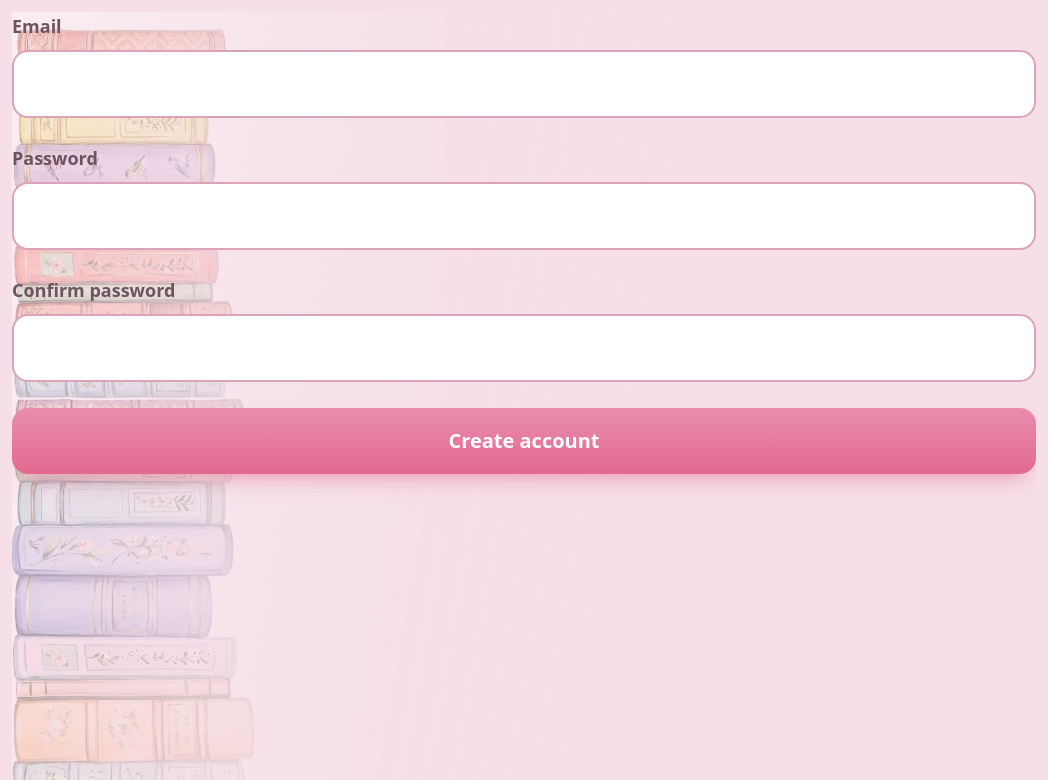
it: RegisterForm › maps a duplicate-email error_code to its translated message
Type "taken@example.com" into the field labelled "Email" at (524, 84), box [12,50,1036,118]
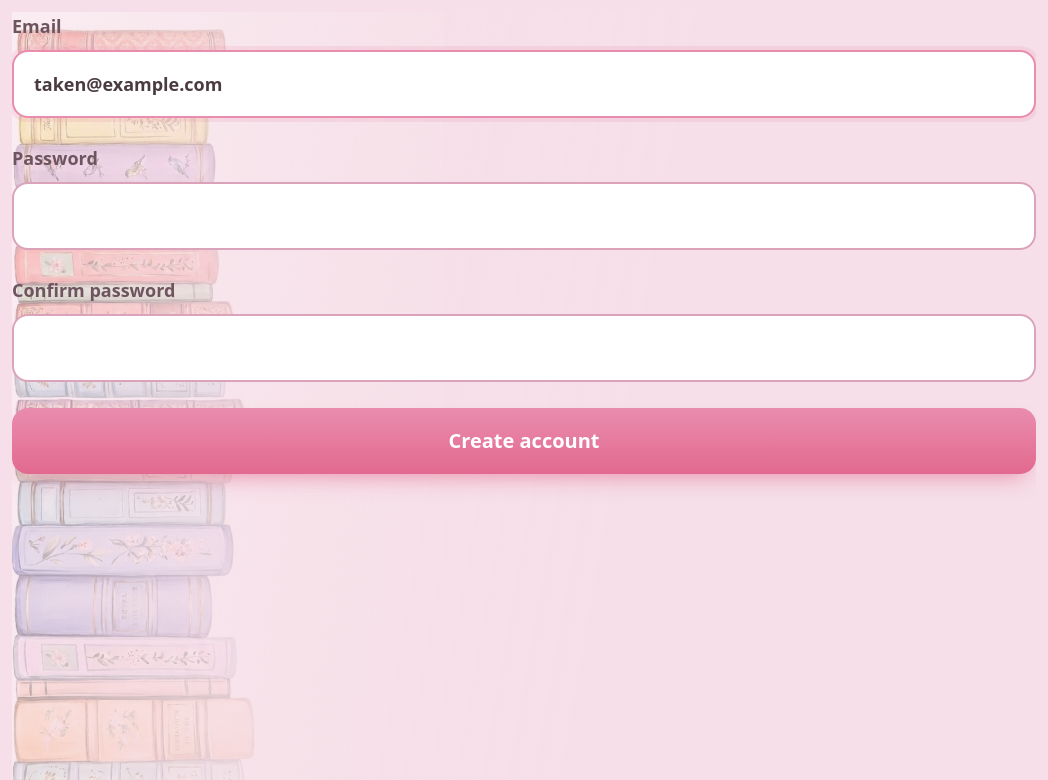
Type "password123" into the password field labelled "Password" at (524, 216), box [12,182,1036,250]
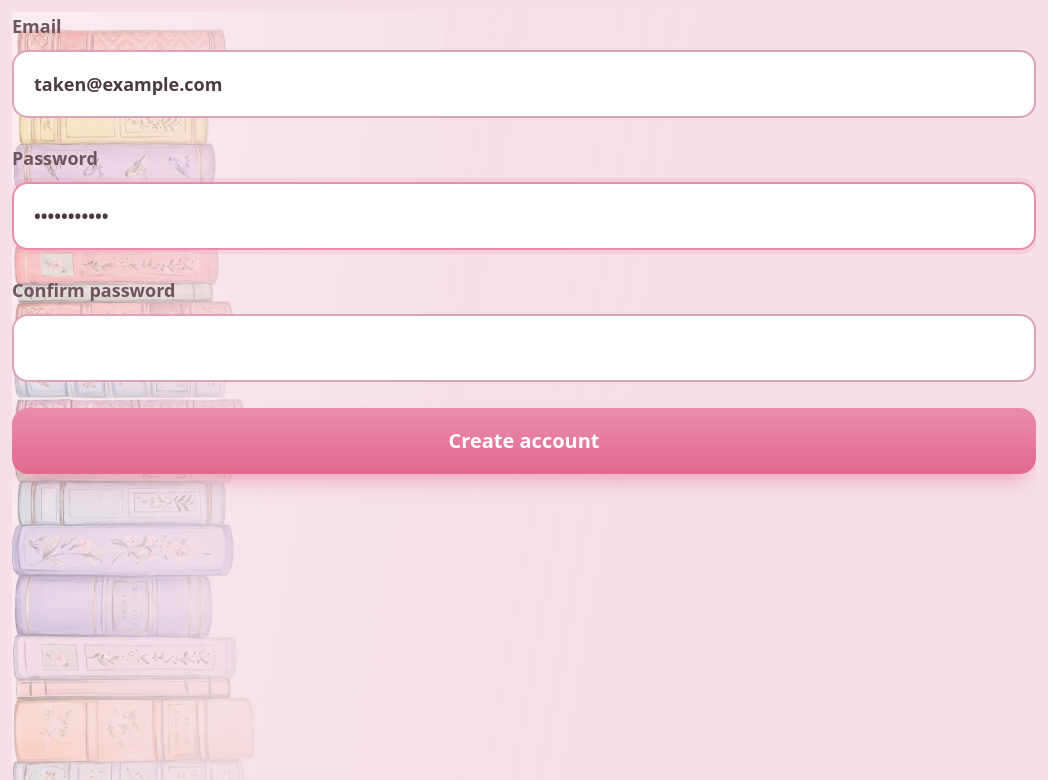
Type "password123" into the password field labelled "Confirm password" at (524, 348), box [12,314,1036,382]
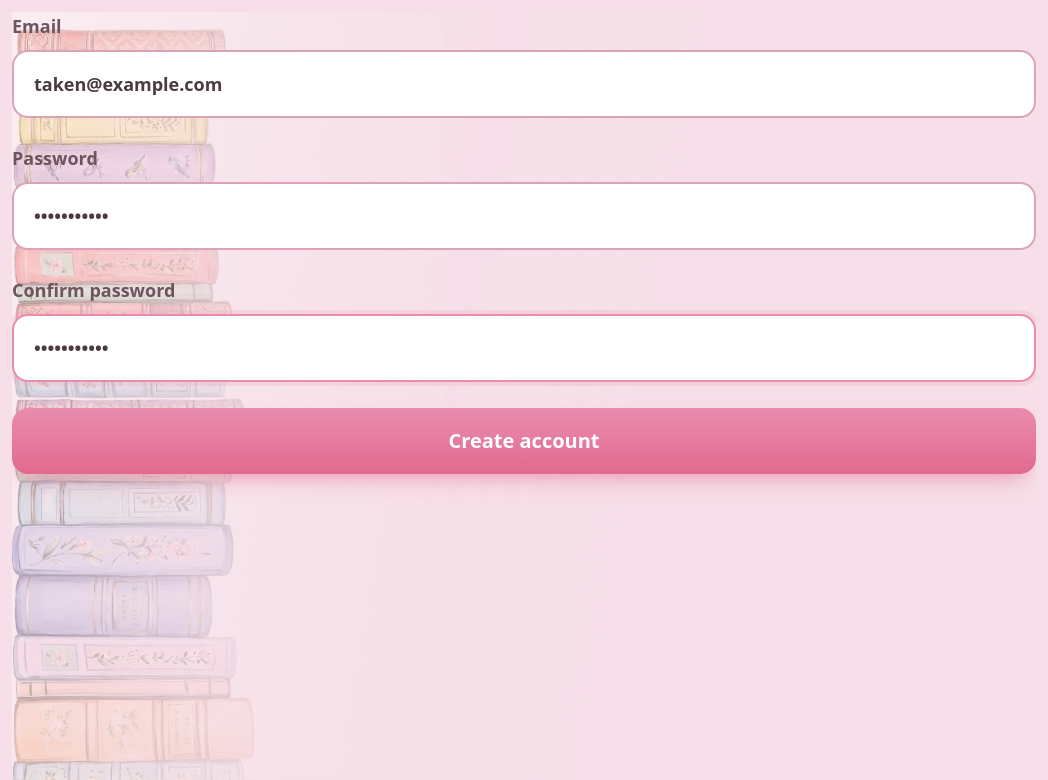
Click the button "Create account" at (524, 441), box [12,408,1036,474]
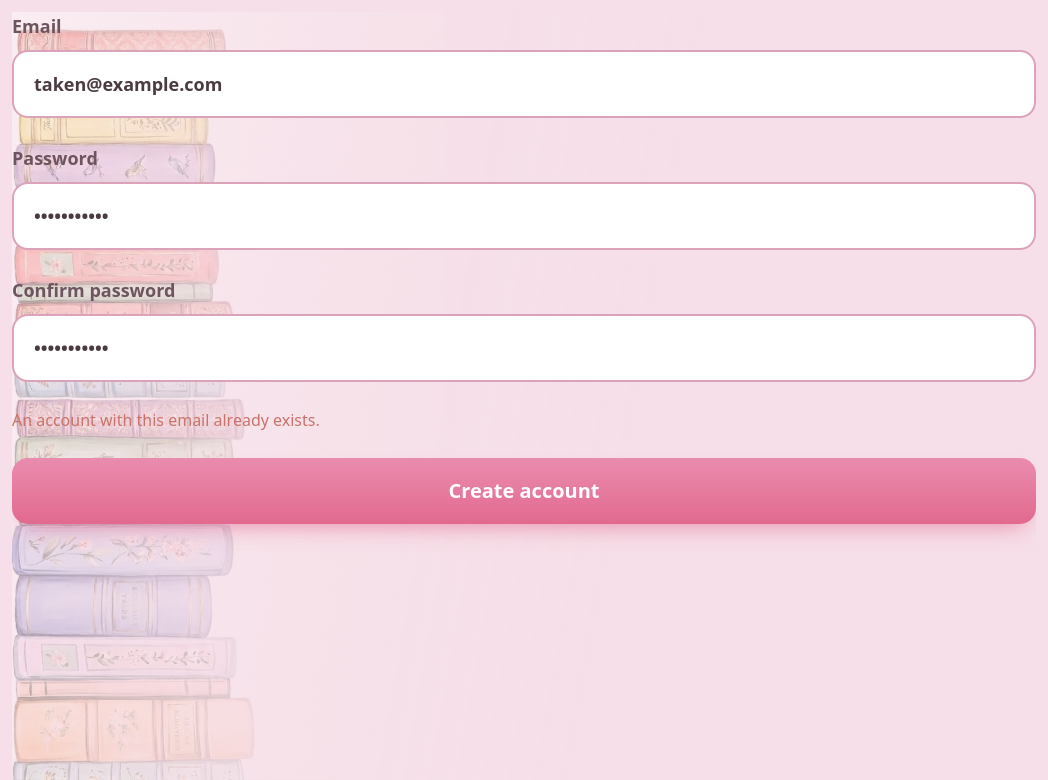
Check: the text "An account with this email already exists." is shown, box [12,409,320,431]
